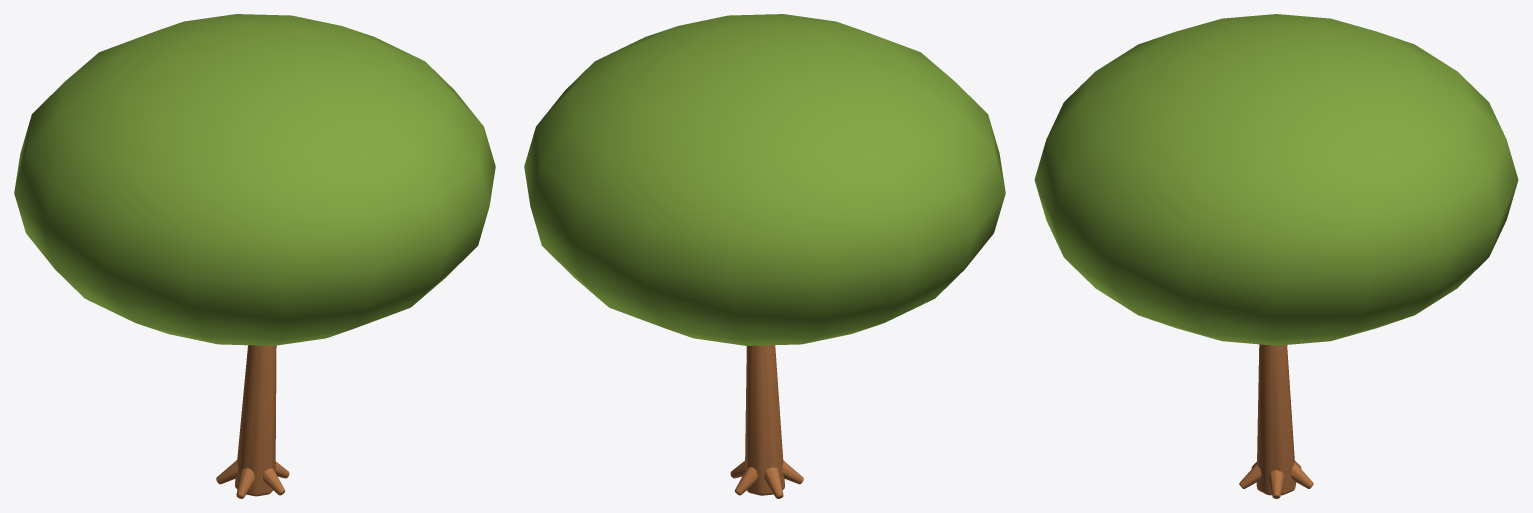
The model's file is prop.street-tree-blossom.lod1.glb.
3 renders of one model, left to right at view 1: azimuth 30°, elevation 25°; view 2: azimuth 150°, elevation 25°; view 3: azimuth 270°, elevation 25°, orthographic.
Parts seen in each view (by area): view 1: crownProxy, body, object 1; view 2: crownProxy, body, object 1; view 3: crownProxy, body, object 1.
Part boxes in pixels (box(x1,y1,x2,y2)): crownProxy: box(14, 14, 495, 345); body: box(235, 345, 276, 496); object 1: box(216, 460, 289, 498); crownProxy: box(524, 14, 1005, 345); body: box(745, 345, 784, 495); object 1: box(730, 460, 803, 498); crownProxy: box(1034, 14, 1518, 345); body: box(1256, 344, 1296, 495); object 1: box(1239, 461, 1313, 498).
Bounding box in the file's own units: 5.2 × 5.21 × 5.2.
